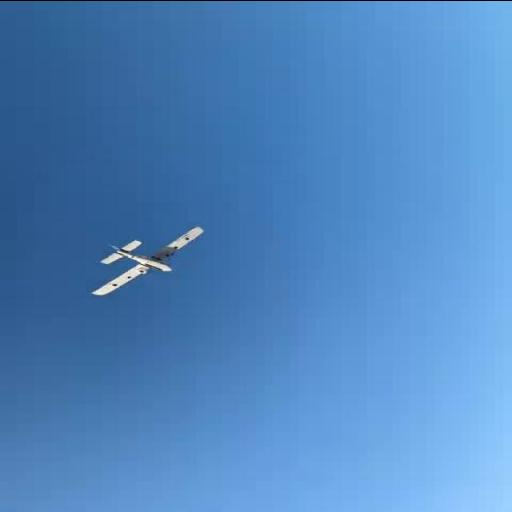uav: (88, 226, 212, 296)
